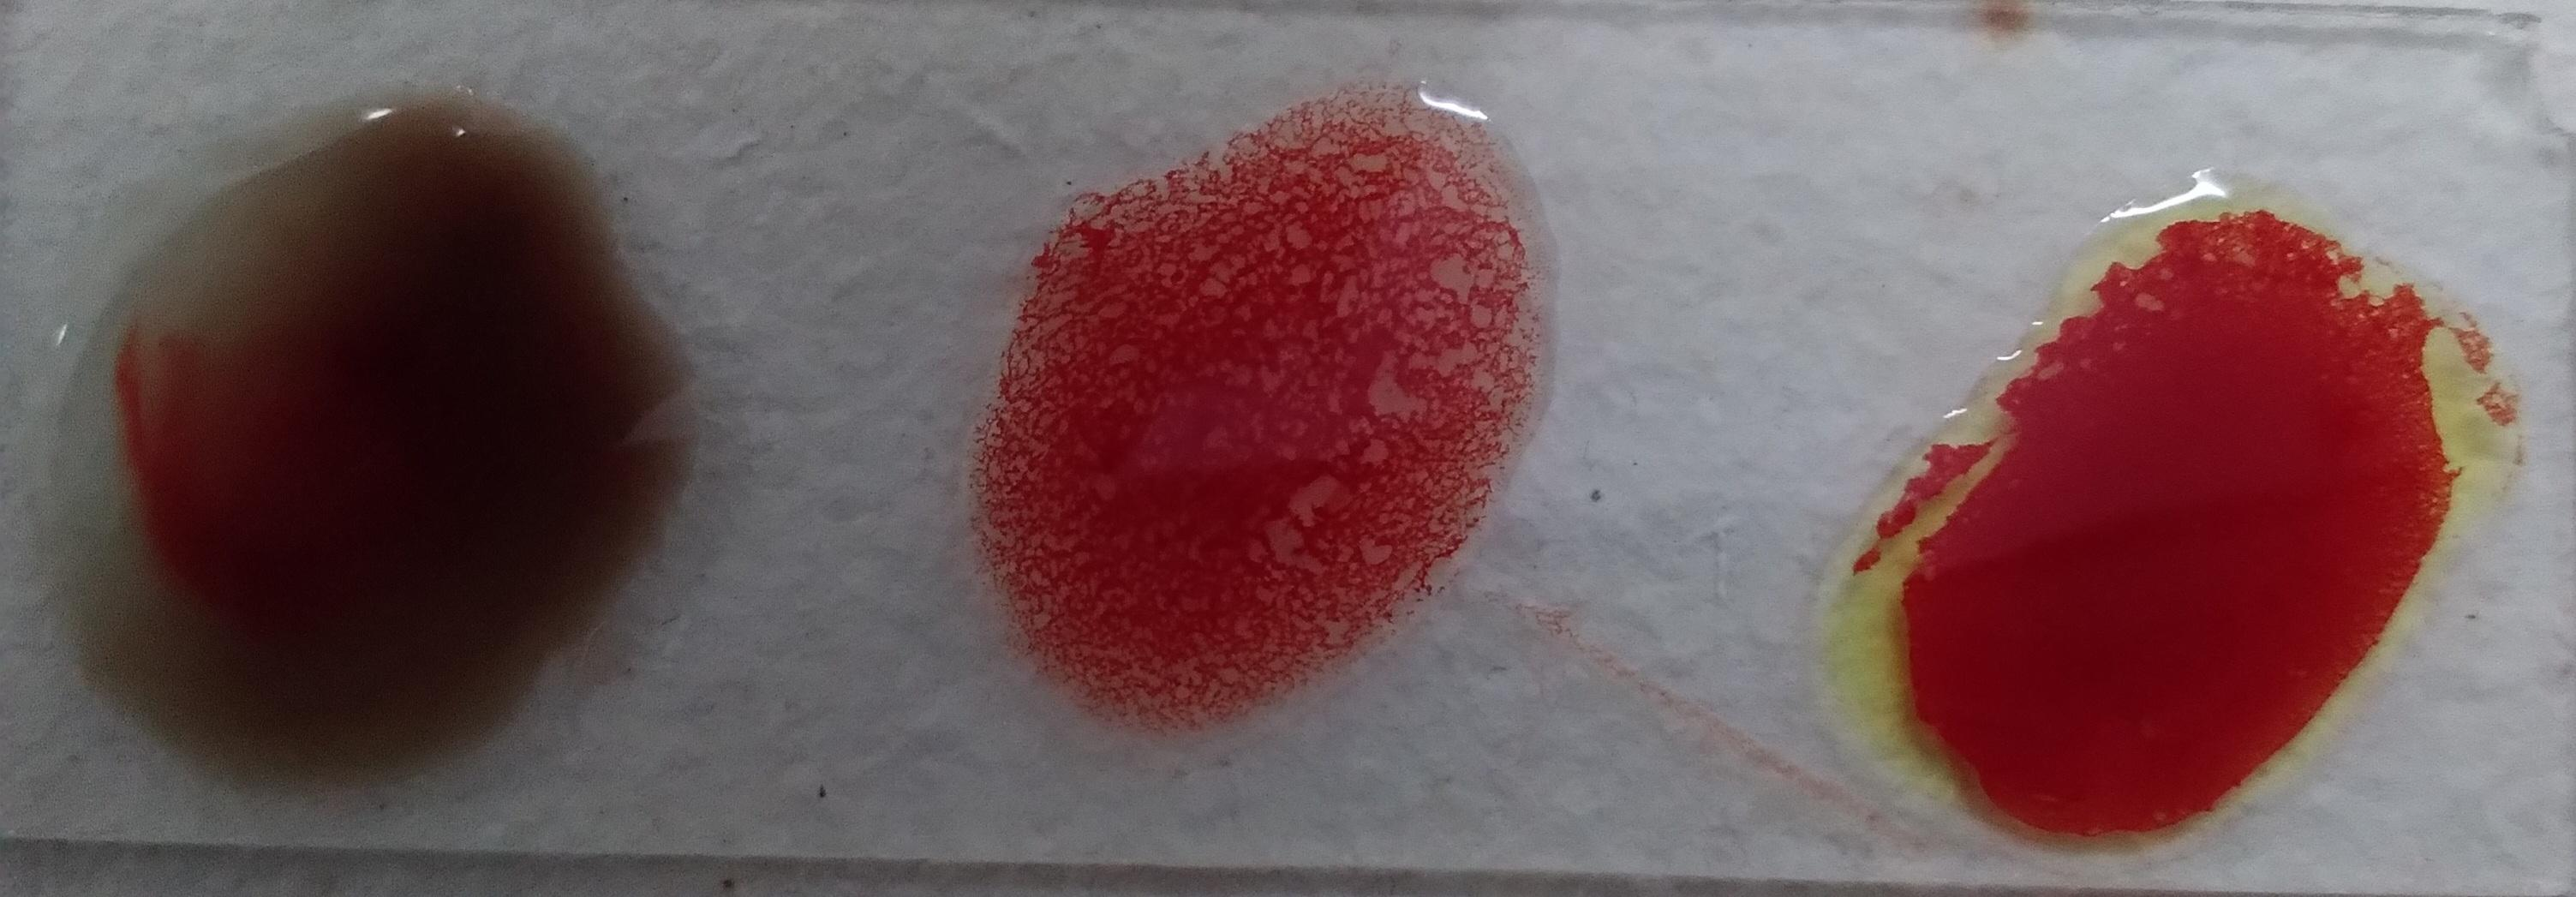B: (84, 16, 743, 724)
D: (1035, 131, 1615, 816)
